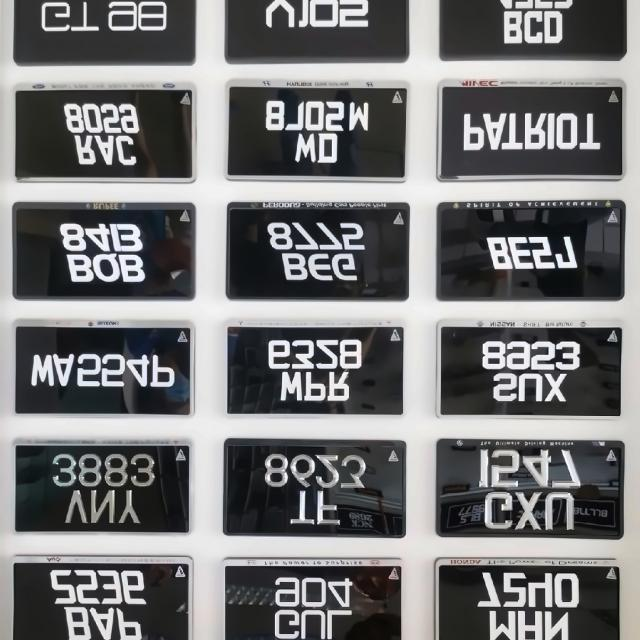car-plate: (220, 436, 406, 538), (438, 438, 624, 540), (441, 77, 622, 181), (436, 202, 624, 302), (13, 202, 200, 302), (225, 204, 412, 301), (226, 86, 408, 182), (17, 88, 198, 182), (441, 325, 625, 415), (13, 325, 195, 414), (15, 442, 190, 534), (228, 326, 404, 415), (434, 557, 622, 638), (226, 557, 402, 640), (12, 558, 190, 640), (224, 0, 412, 62), (16, 0, 198, 64), (441, 2, 629, 62)
